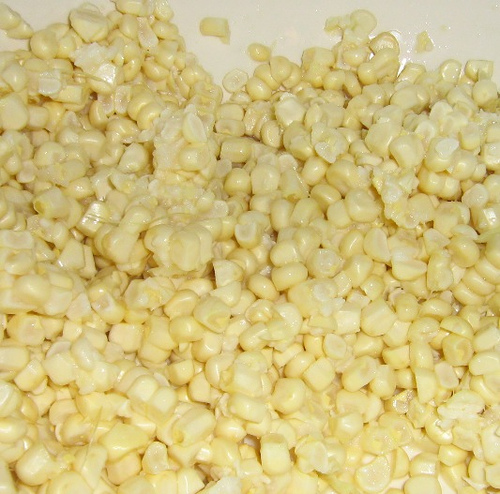corn: (1, 1, 498, 492)
